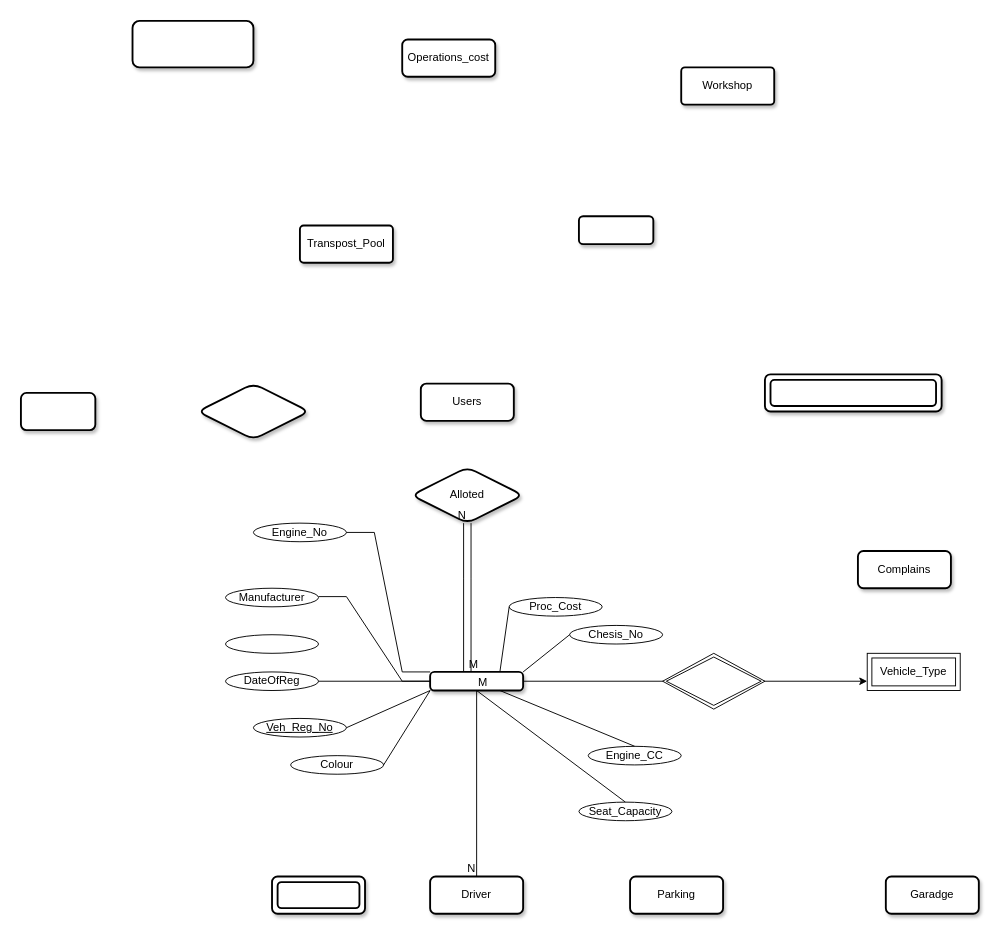
Image size: 1001x937. Some labels were removed from this diagram. Each missing label, with the centre of its shape:
Auctioned: point (319, 896)
Car_Procurement_Process: point (854, 393)
Have: point (713, 680)
Maintenance_cost: point (193, 45)
Makes: point (254, 412)
Model: point (272, 643)
Office: point (616, 231)
Reservation: point (58, 412)
Vehicle_Record: point (477, 682)
